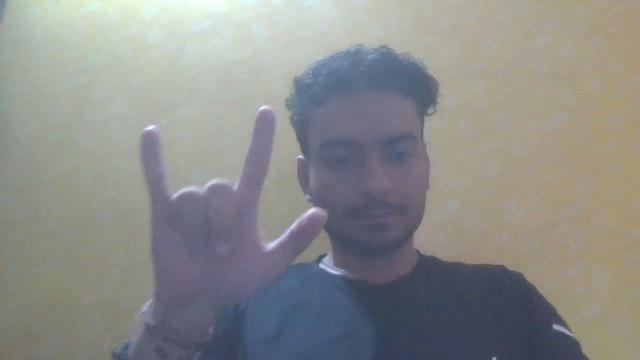Loveyou: (117, 110, 350, 324)
